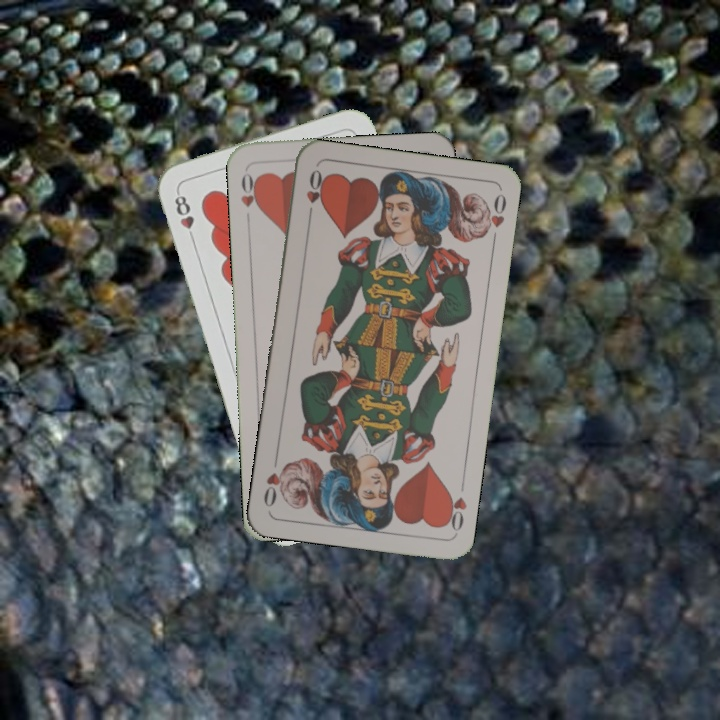H8: (170, 187, 198, 245)
HO: (302, 165, 326, 223), (440, 487, 469, 534), (237, 166, 263, 213)
